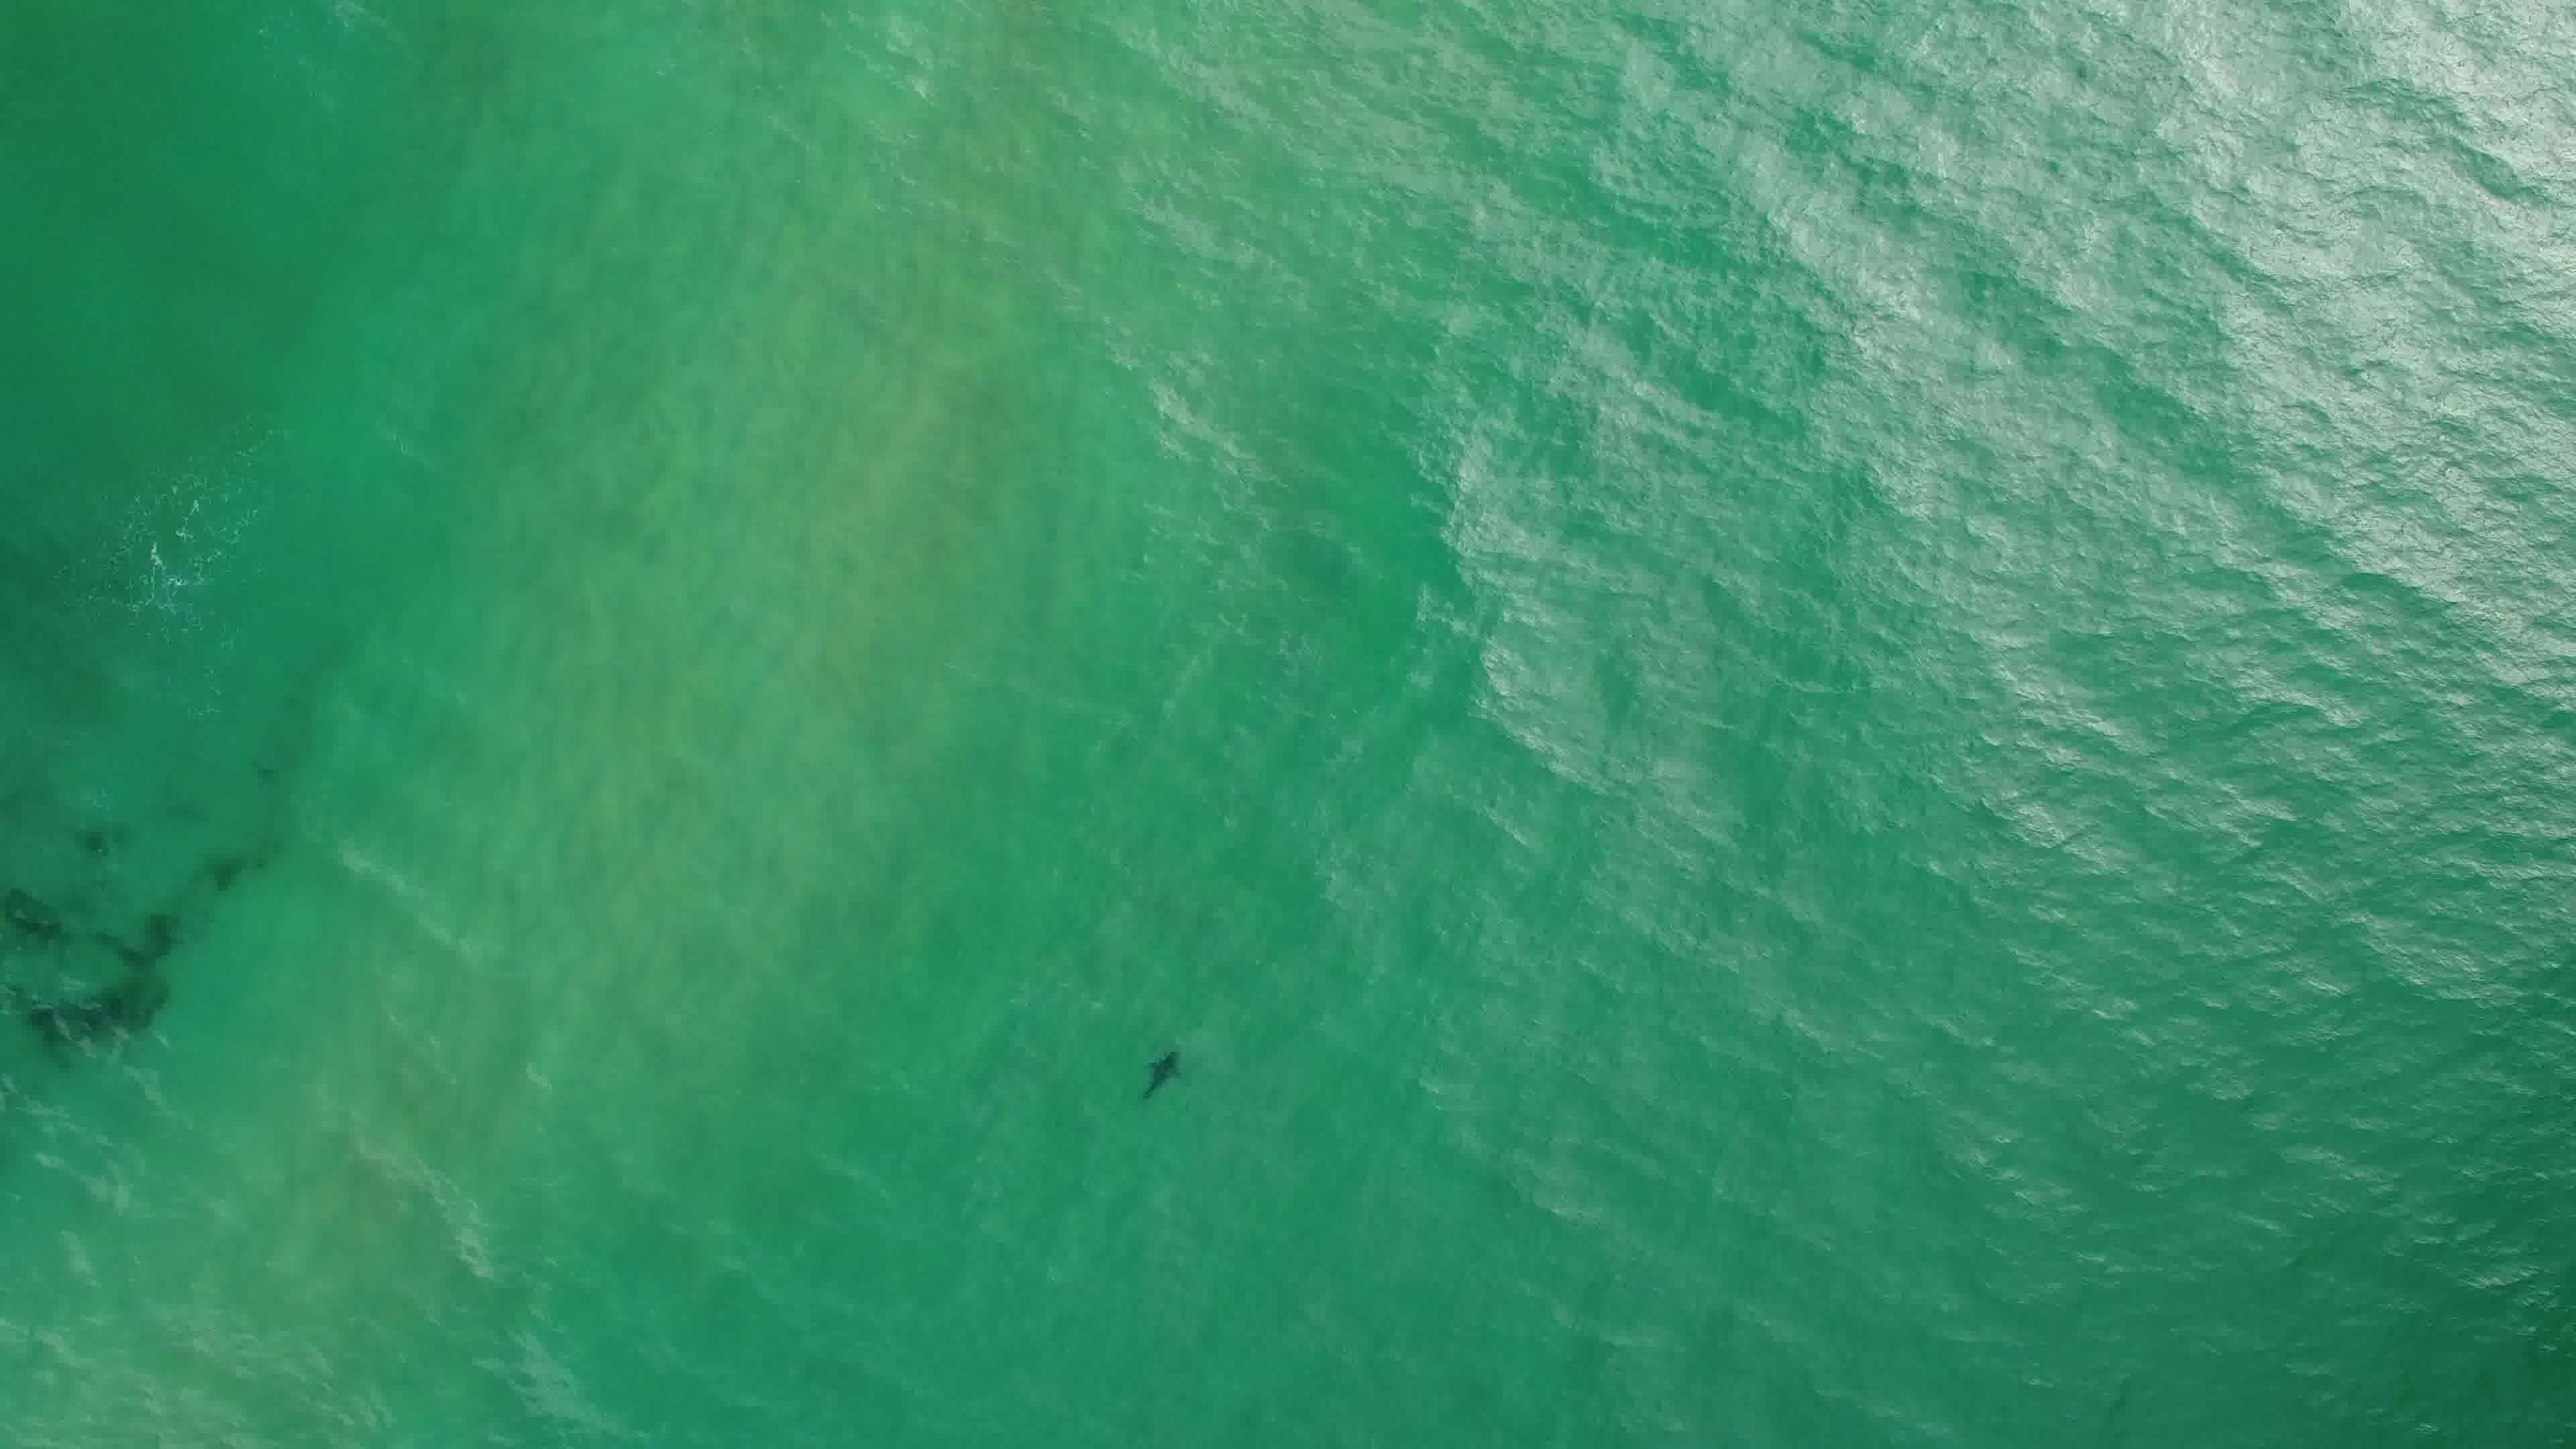shark: (1136, 1044, 1191, 1104)
